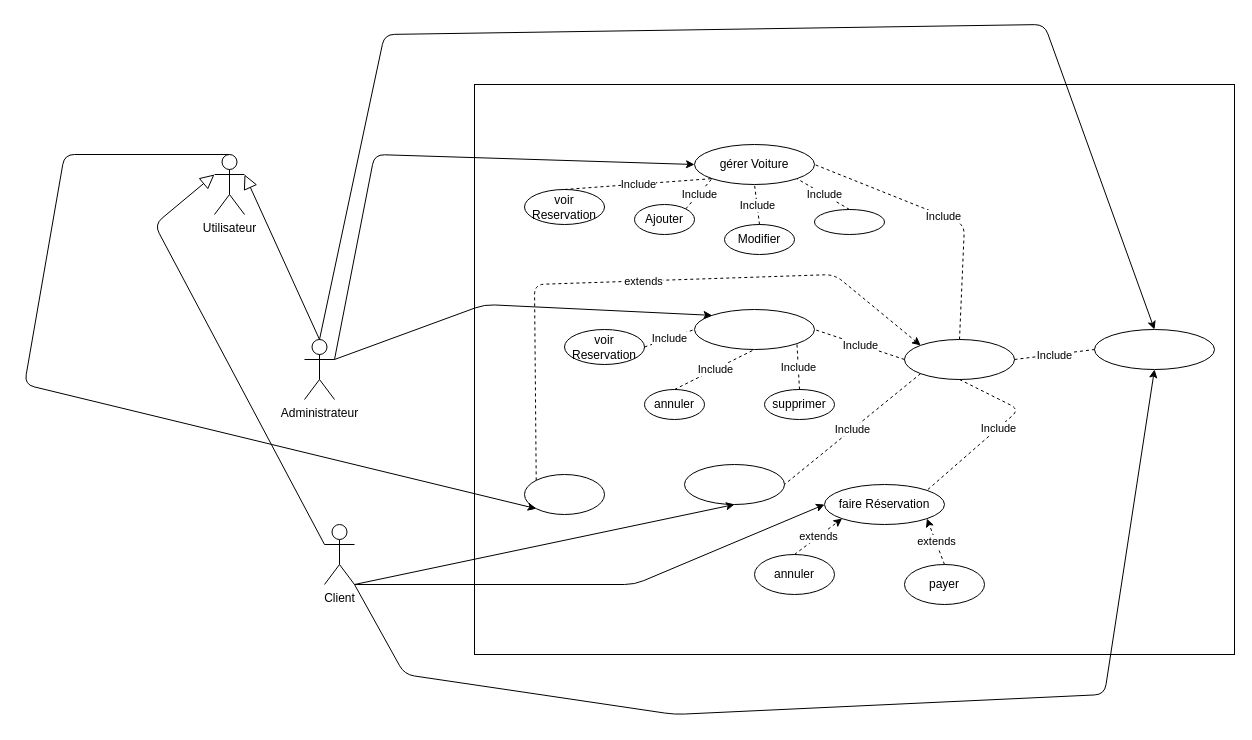
The diagram is 1252 pixels wide and 740 high, and some of its shapes have lost their labels. Each missing label, with the centre of its shape:
"consulter Reservations" goes at point (734, 484).
"gérer Réservation" goes at point (754, 329).
"gérer son Compte" goes at point (1154, 349).
"liste Voitures" goes at point (564, 494).
"S'authentifer" goes at point (959, 359).
"supprimier" goes at point (849, 221).
